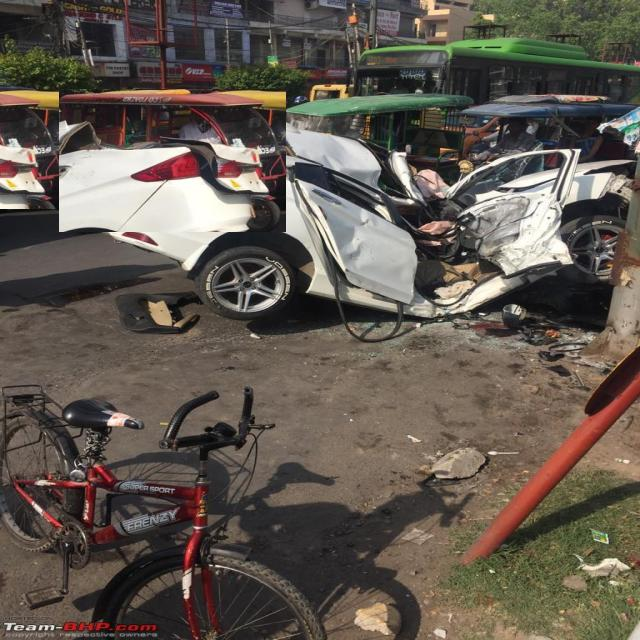accident: (78, 122, 633, 340)
autorickshaw: (60, 89, 286, 232), (0, 90, 122, 209)
bicycle: (0, 385, 327, 640)
bus: (353, 38, 640, 104)
